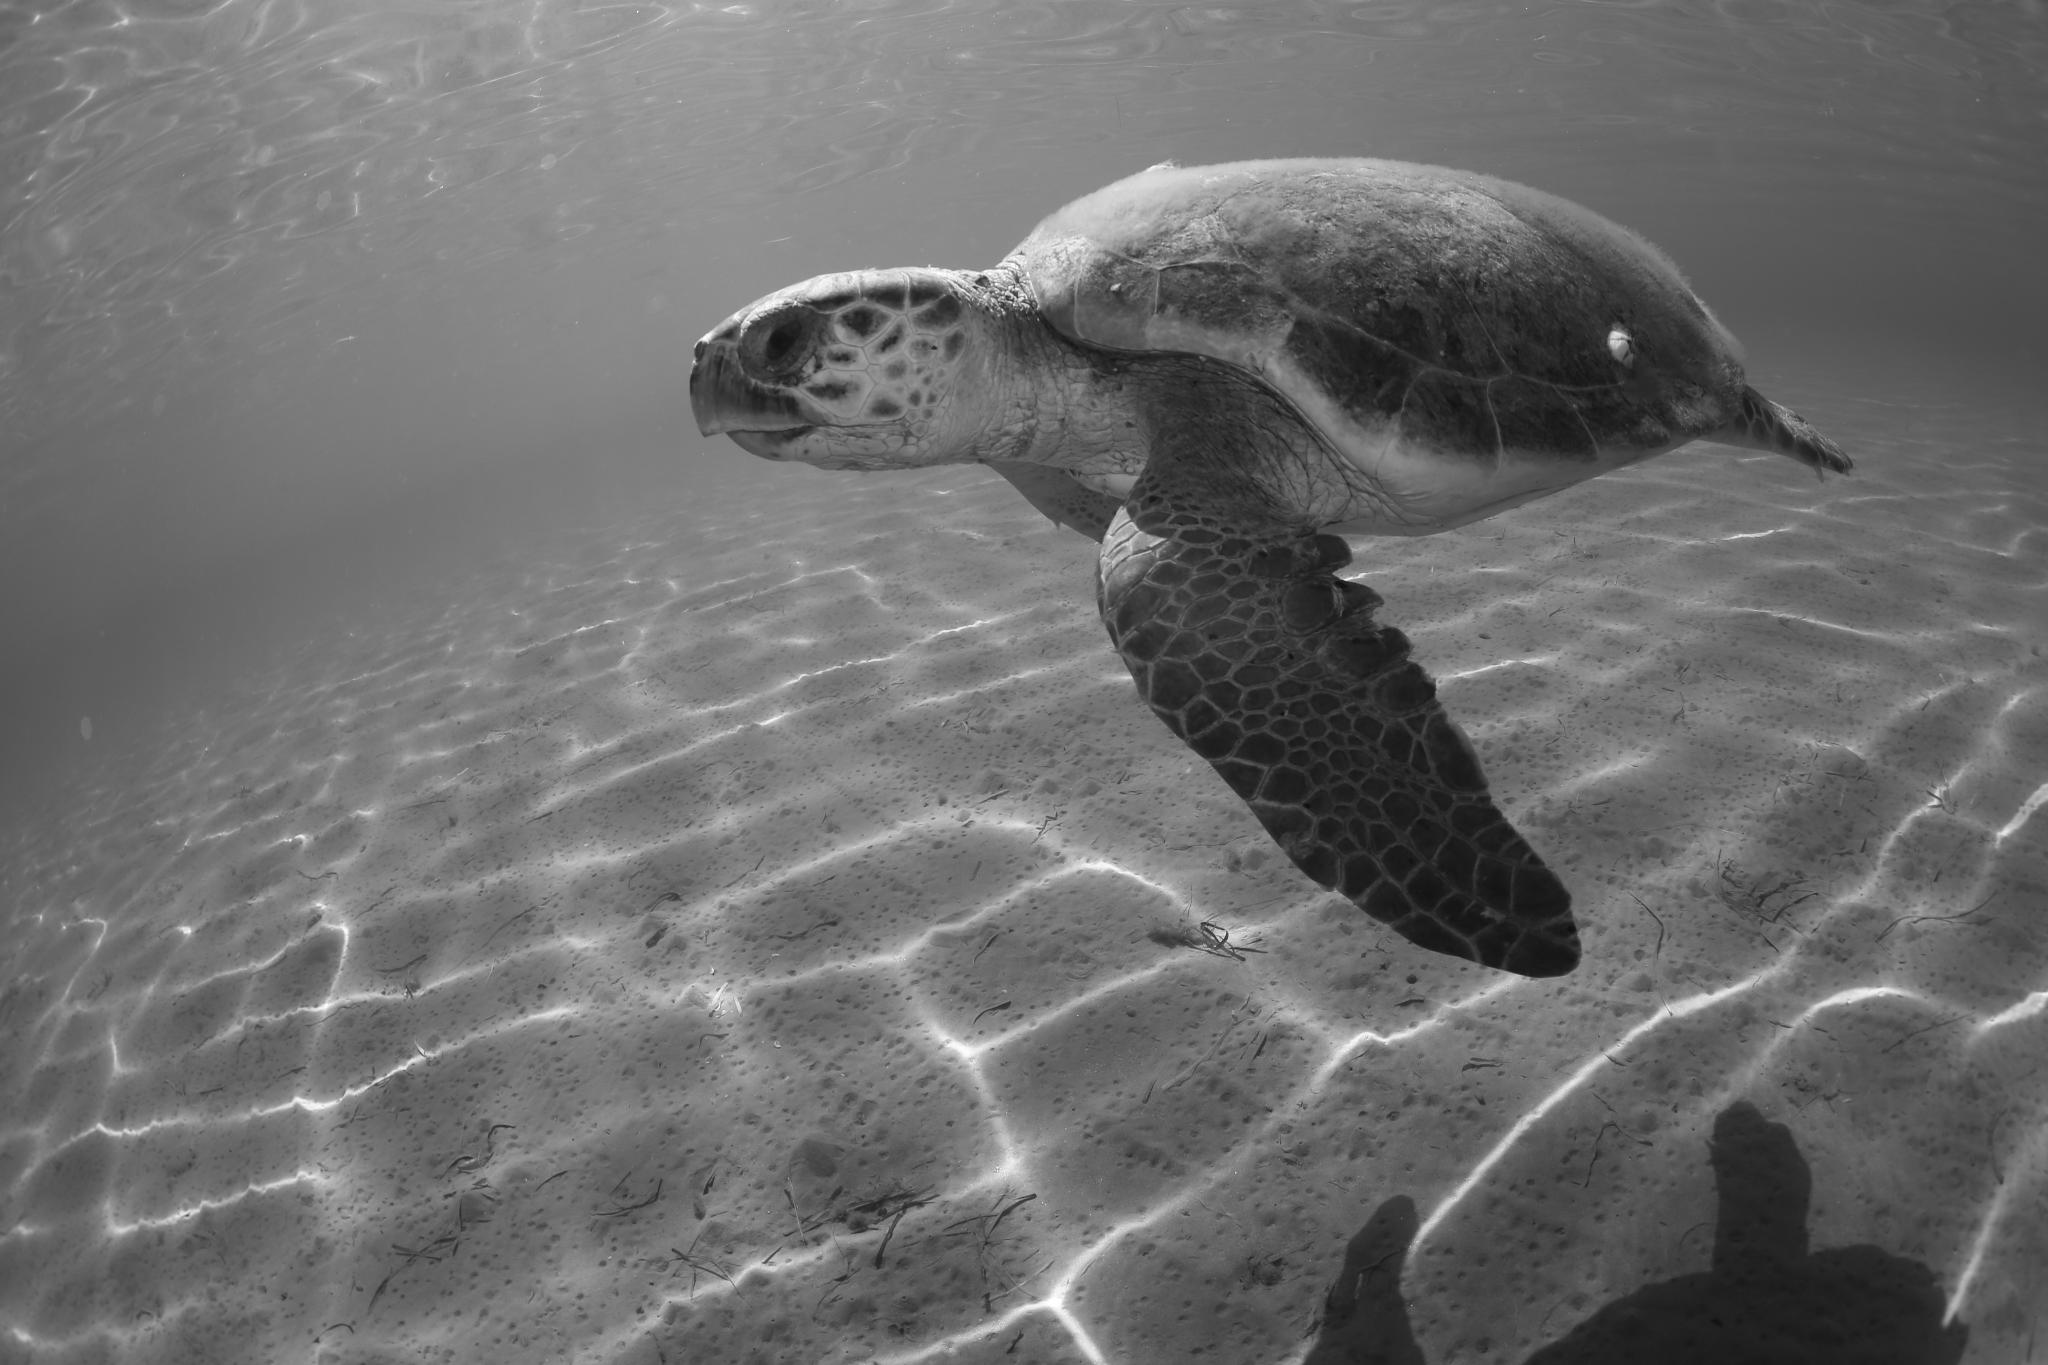Head: (690, 268, 1037, 470)
